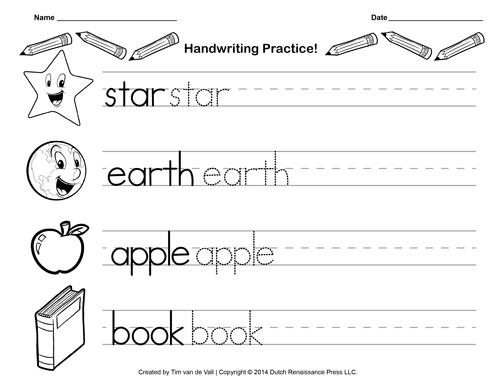text: (110, 228, 276, 278), (105, 148, 291, 188), (109, 308, 264, 347), (103, 80, 231, 109), (136, 367, 358, 377), (182, 42, 318, 56), (32, 14, 56, 22), (369, 13, 389, 21)
